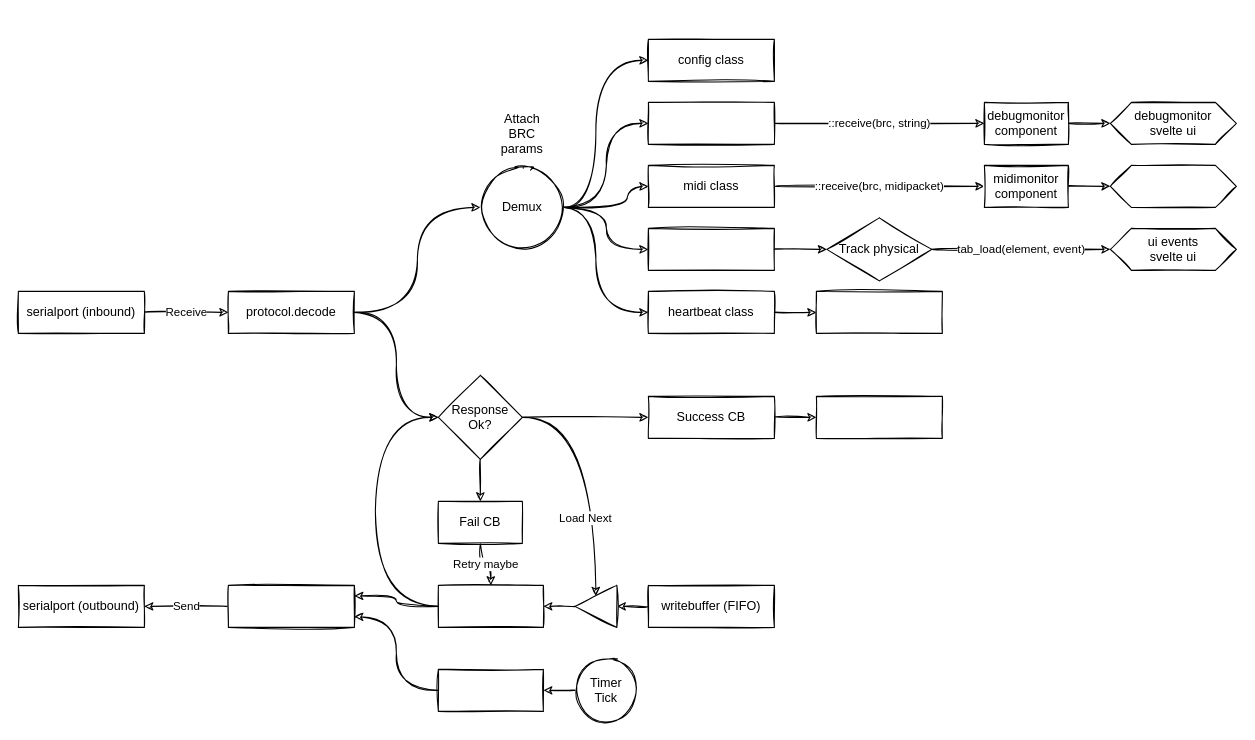
Some shapes in this 1255 by 740 pixel diagram are drawn without their labels. The centre of each missing label's shape, as x and y in pixels:
"create / refresh module on UI" goes at [878,311].
"debugtext" goes at [710,122].
"editor heartbeat" goes at [490,689].
"event class" goes at [710,248].
"last sent" goes at [490,605].
"midimonitor svelte ui" goes at [1172,185].
"protocol.encode" goes at [290,605].
"Update UI" goes at [878,416].
